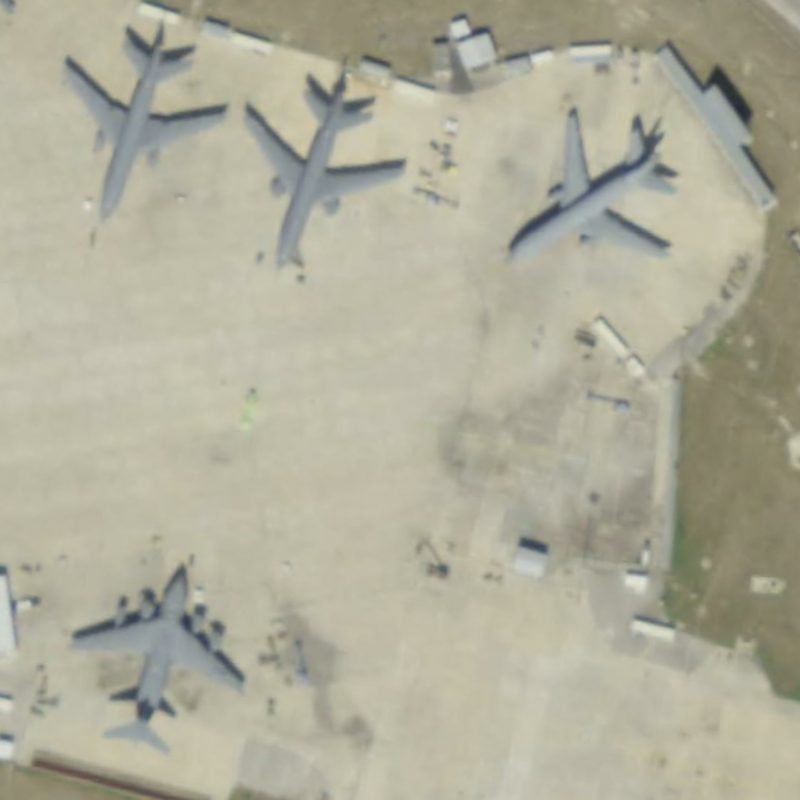A18: (238, 61, 413, 277), (58, 19, 231, 231), (495, 95, 682, 273)
A3: (61, 553, 258, 754)
